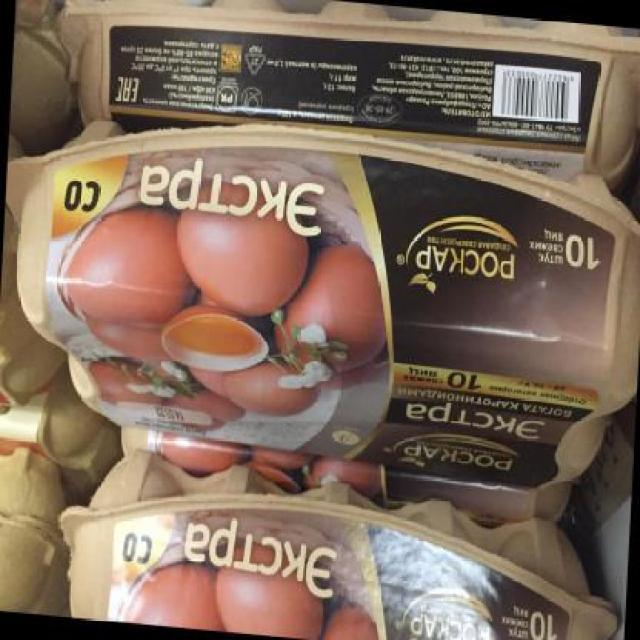egg: (0, 96, 640, 492), (52, 454, 628, 640)
